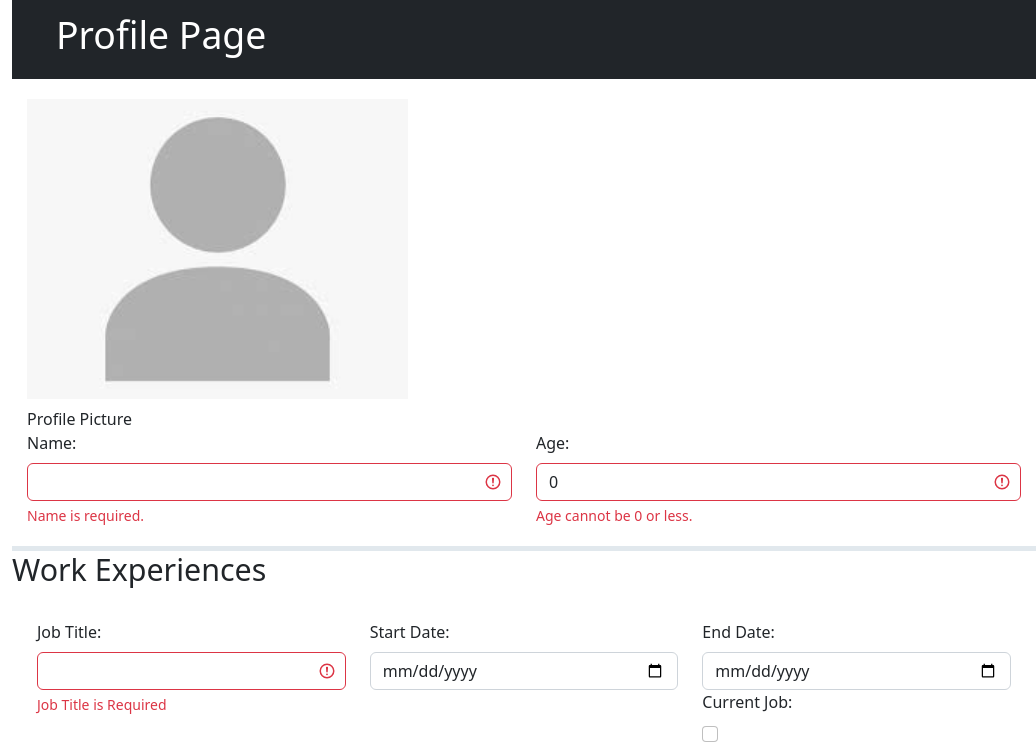
it: Handle Changes and Functions › should update the isCurrent state and endDate state when the checkbox is checked
Click the checkbox labelled "Current Job:" at [710, 734], box [702,726,718,742]
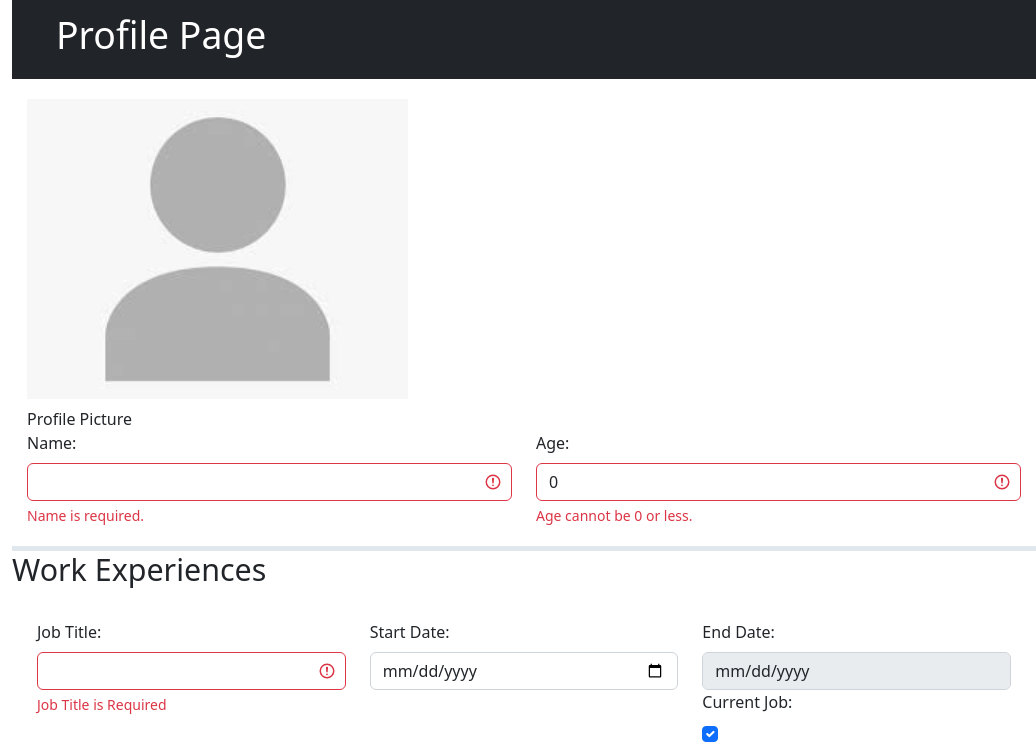
Expected: the date field labelled "End Date:" has attribute disabled
Expected: the checkbox labelled "Current Job:" is checked, [702,726,718,742]
Type "2022-12-31" into the date field labelled "End Date:" at [857, 671], box [702,652,1011,690]
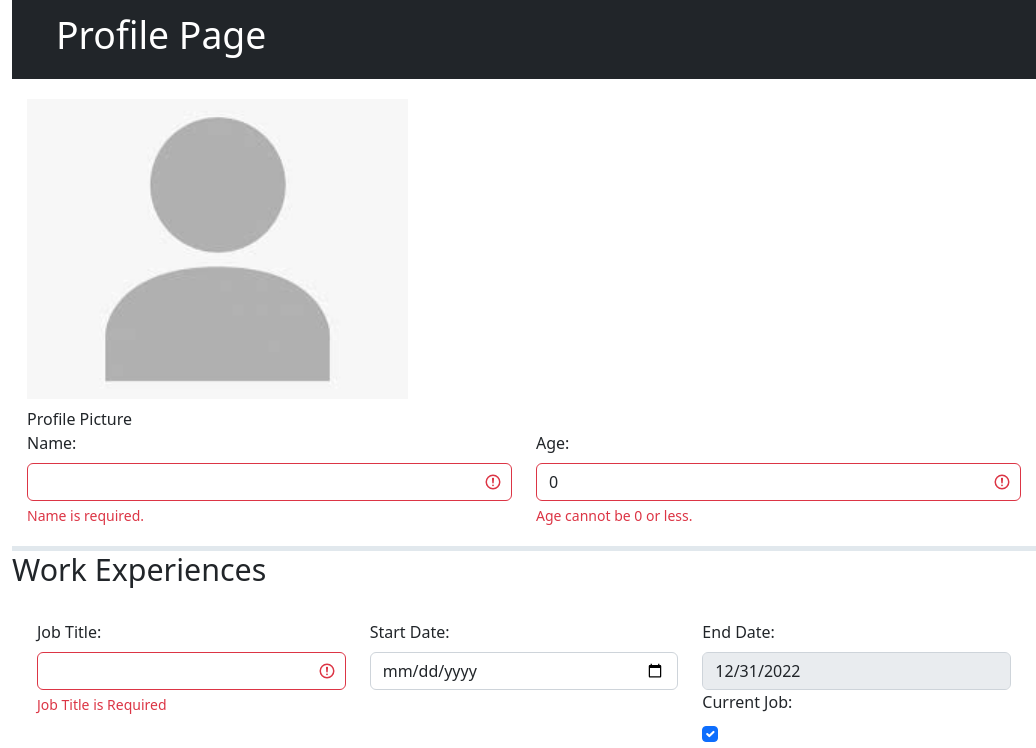
Click the checkbox labelled "Current Job:" at [710, 734], box [702,726,718,742]
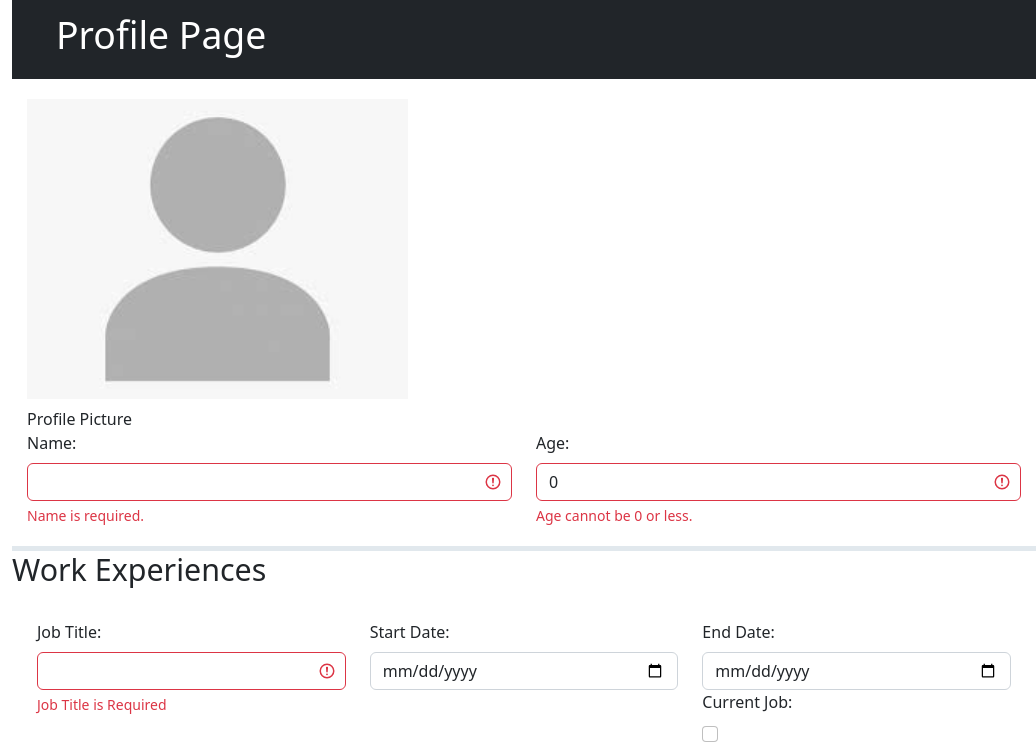
Expected: the checkbox labelled "Current Job:" is not checked, [702,726,718,742]
Expected: the date field labelled "End Date:" is empty, [702,652,1011,690]
